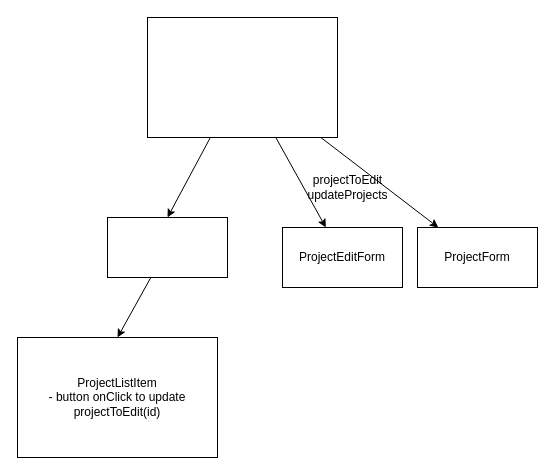
Image size: 555x475. Some labels were removed from this diagram. Here are the shapes that lost their labels. From the top down, the centre of each, then its label:
At (242,77): "App projectToEdit cb to update projectToEdit updateProjects deleteProject".
At (167,247): "ProjectList".
